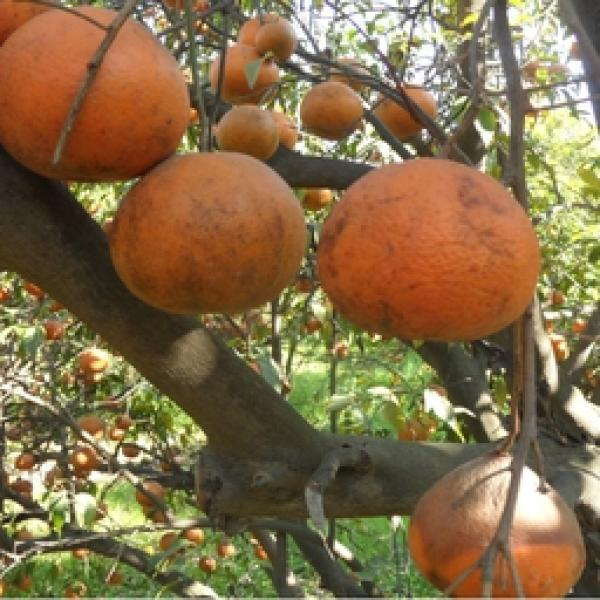Machas negras: (310, 144, 552, 350), (92, 148, 322, 327), (0, 4, 209, 184), (402, 450, 598, 596)
